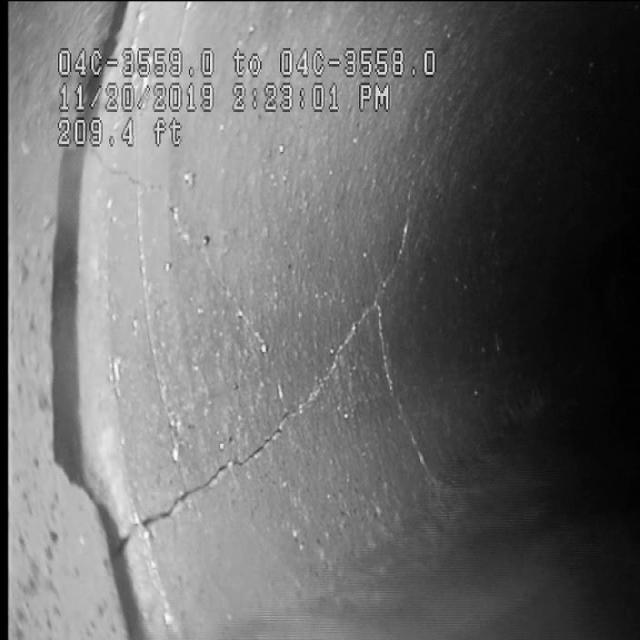Crack: (133, 316, 384, 532)
